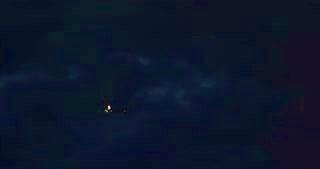Plane: (93, 101, 123, 116)
